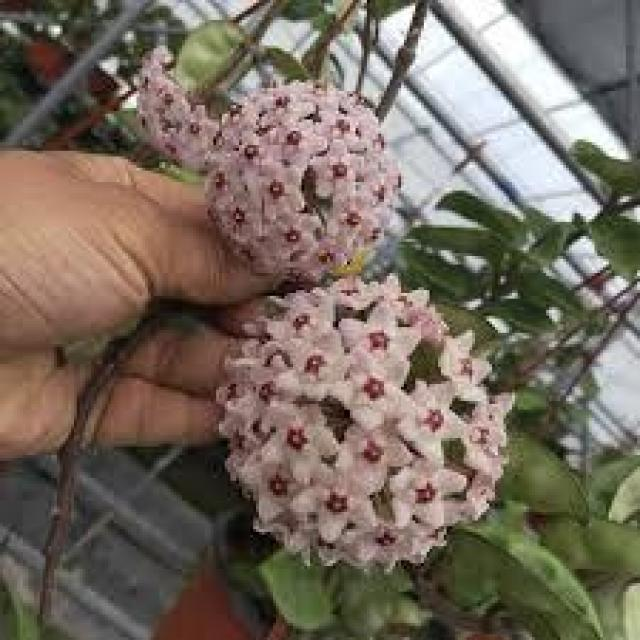organic waste: (218, 278, 519, 574), (182, 71, 404, 267)
